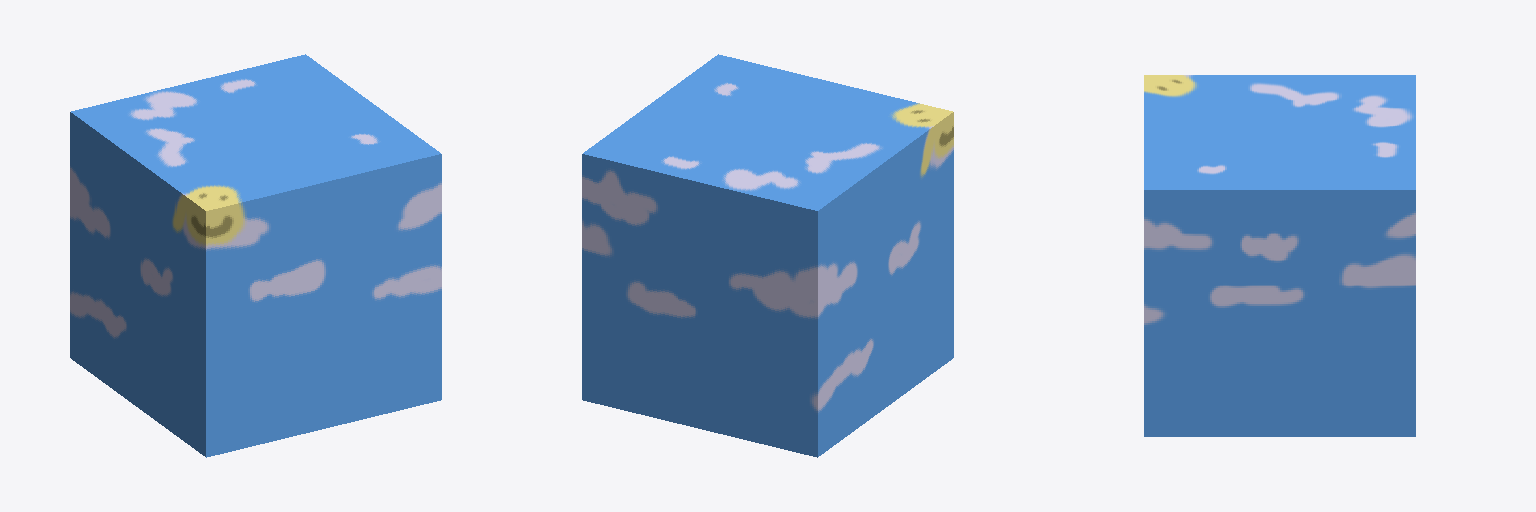
3 renders of one model, left to right at view 1: azimuth 30°, elevation 25°; view 2: azimuth 150°, elevation 25°; view 3: azimuth 270°, elevation 25°, orthographic.
Visible parts, largest first — view 1: Cube; view 2: Cube; view 3: Cube.
Boxes of the visible parts, x1=… form: Cube: x1=70, y1=54, x2=441, y2=457; Cube: x1=582, y1=54, x2=953, y2=457; Cube: x1=1144, y1=75, x2=1415, y2=436.
Bounding box in the file's own units: 2 × 2 × 2.
1 materials, 1 textured.